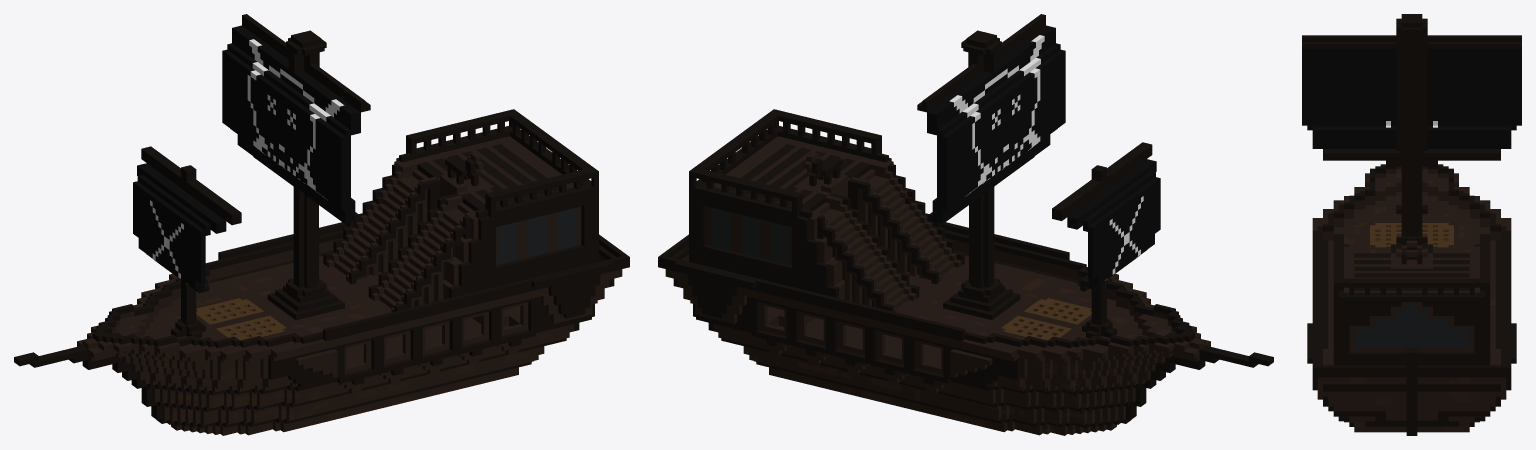
The model's file is Pirate Ship.obj.
3 renders of one model, left to right at view 1: azimuth 30°, elevation 25°; view 2: azimuth 150°, elevation 25°; view 3: azimuth 270°, elevation 25°, orthographic. The views are drawn at different scales.
Visible parts, largest first — view 1: Pirate Ship; view 2: Pirate Ship; view 3: Pirate Ship.
Boxes of the visible parts, x1,y1,x2,y2 form: Pirate Ship: [14, 14, 629, 435]; Pirate Ship: [658, 14, 1273, 435]; Pirate Ship: [1302, 14, 1521, 435].
Size of the model in its own units: 116 by 72 by 42.
1 material, 1 textured.
